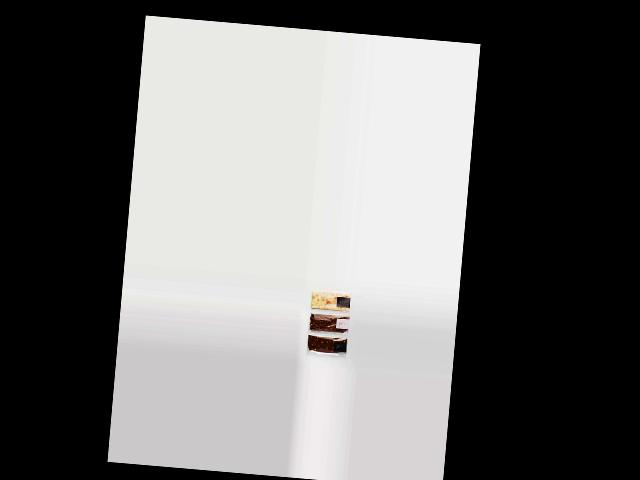chocolate: (302, 333, 346, 360)
